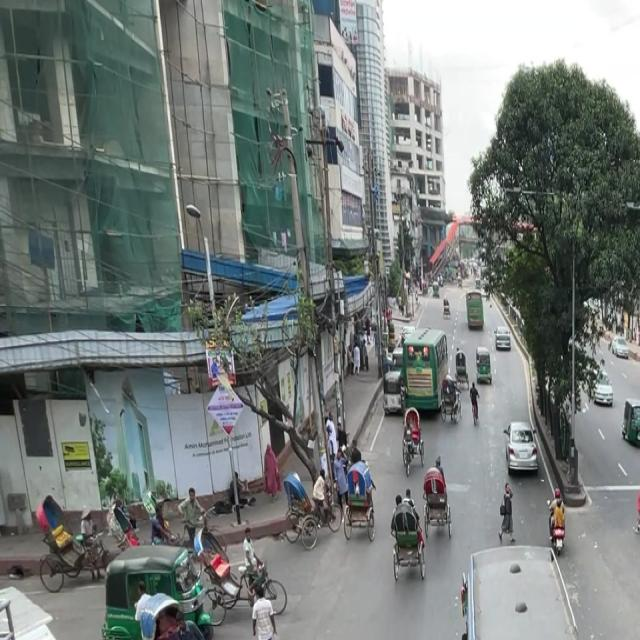bicycle: (467, 380, 483, 431)
bus: (458, 533, 640, 640), (400, 330, 453, 419), (462, 281, 487, 337)
car: (502, 409, 544, 484), (495, 322, 515, 360)
motorbike: (544, 482, 573, 562)
rickshaw: (101, 542, 216, 640), (619, 393, 640, 451)
